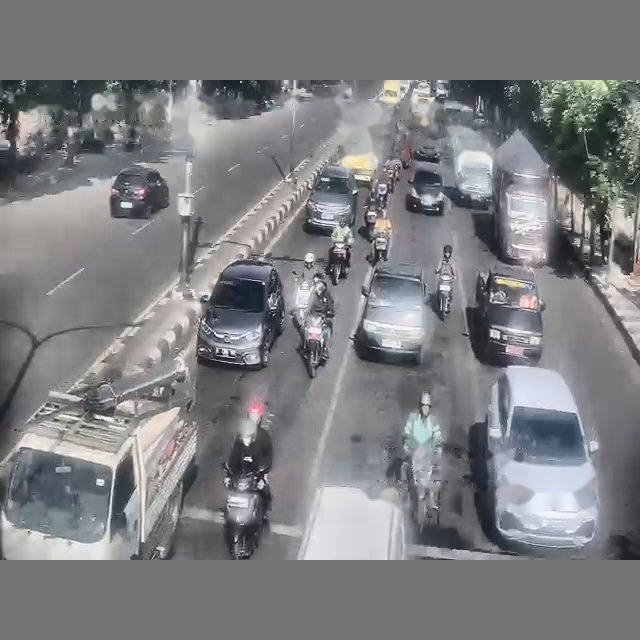Mobil: (484, 365, 598, 549), (196, 257, 285, 368), (354, 262, 427, 364), (474, 265, 544, 363), (305, 165, 358, 230), (110, 167, 169, 218), (405, 162, 444, 214), (340, 137, 379, 185), (413, 145, 440, 163), (296, 88, 313, 100)
Motor: (222, 462, 268, 560), (405, 447, 442, 531), (303, 315, 325, 377), (293, 270, 311, 328), (436, 273, 452, 319), (330, 242, 346, 285), (372, 233, 388, 265), (365, 207, 377, 240)
Truk: (0, 357, 197, 559), (493, 130, 552, 264), (454, 149, 493, 208)
